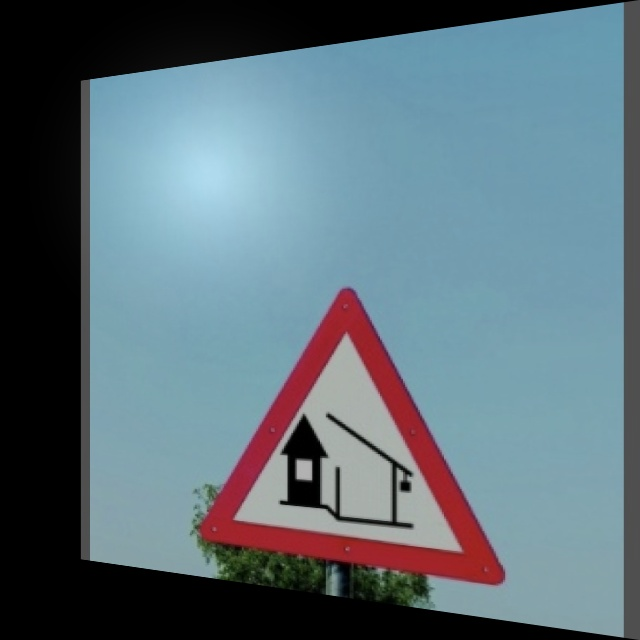Barrier_Ahead: (198, 287, 509, 587)
